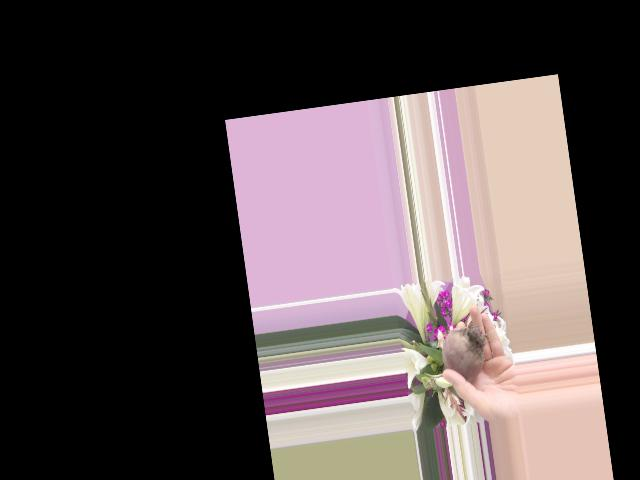beet: (418, 322, 488, 386)
